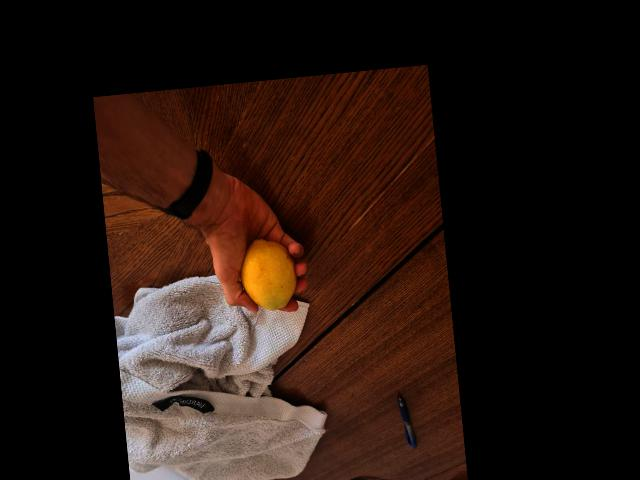lemon: (239, 233, 300, 314)
